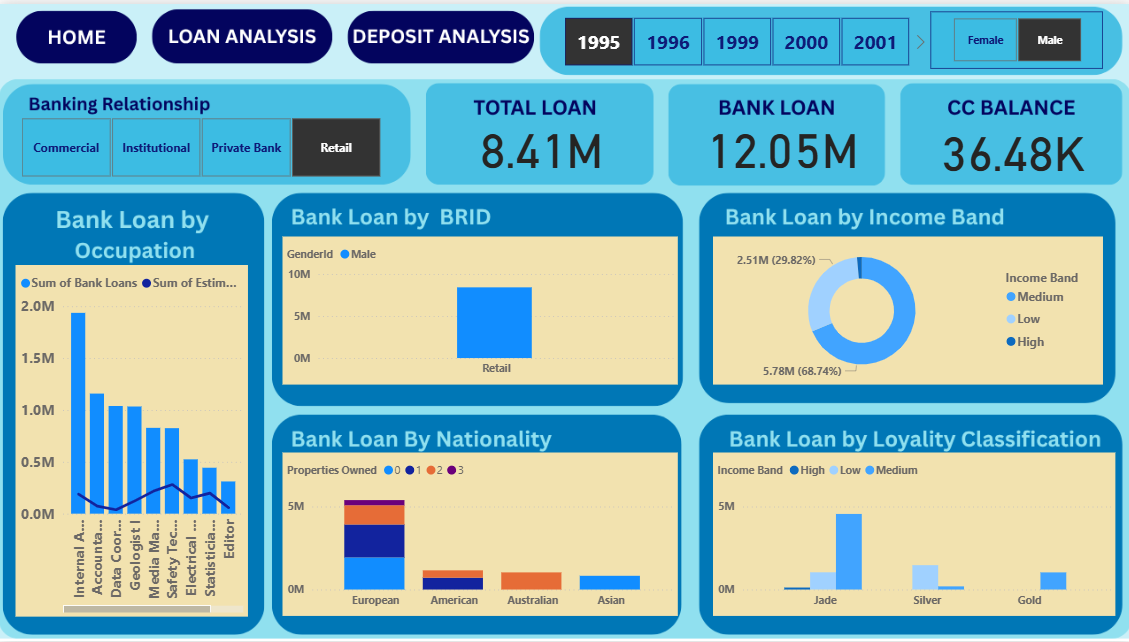

The page's visual inventory and layout, read from the dashboard file:
{"tool":"powerbi","page":{"name":"Loan Analysis","canvas":[1280,720],"ordinal":1},"visuals":[{"type":"card","fields":{"Values":["Sum(Banking.Credit Card Balance)"]},"box":[1044.1,115.3,203.4,94.9],"z":0},{"type":"card","fields":{"Values":["Sum(Banking.Bank Loans)"]},"box":[516.9,122,191.5,72.9],"z":1000},{"type":"card","fields":{"Values":["Sum(Banking.Business Lending)"]},"box":[767.8,100,233.9,116.9],"z":2000},{"type":"donutChart","fields":{"Category":["Banking.Income Band"],"Y":["Sum(Banking.Bank Loans)"]},"box":[806.4,262.5,440.6,167],"z":3000},{"type":"columnChart","fields":{"Category":["Banking.Nationality"],"Y":["Sum(Banking.Bank Loans)"],"Series":["Banking.Properties Owned"]},"box":[319.7,507.4,447,184.5],"z":4000},{"type":"clusteredColumnChart","fields":{"Y":["Sum(Banking.Bank Loans)"],"Category":["Banking.Loyalty Classification"],"Series":["Banking.Income Band"]},"box":[806.4,507.4,454.9,184.5],"z":5000},{"type":"lineStackedColumnComboChart","fields":{"Category":["Banking.Occupation"],"Y":["Sum(Banking.Bank Loans)"],"Y2":["Sum(Banking.Estimated Income)"]},"box":[19.1,294.3,262.5,397.7],"z":6000},{"type":"slicer","fields":{"Values":["Banking.BRId"]},"box":[0,122.5,454.9,79.5],"z":7000},{"type":"actionButton","box":[18.6,6.8,144.1,69.5],"z":8000},{"type":"slicer","fields":{"Values":["Banking.Year of Joining"]},"box":[613.6,8.5,439,67.8],"z":9000},{"type":"slicer","fields":{"Values":["Banking.GenderId"]},"box":[1052.5,8.5,194.9,64.4],"z":10000},{"type":"clusteredColumnChart","fields":{"Category":["Banking.BRId"],"Y":["Sum(Banking.Bank Loans)"],"Series":["Banking.GenderId"]},"box":[319.7,262.5,447,167],"z":11000},{"type":"actionButton","box":[388.1,8.5,223.7,64.4],"z":12000}]}

Visuals, with their boxes in screenshot pixels (x1, y1, x2, y2), scaled from the page's 1280x720 canvas onto the 1129x642 screenshot:
card - Sum(Banking.Credit Card Balance): Rect(921, 103, 1100, 187)
card - Sum(Banking.Bank Loans): Rect(456, 109, 625, 174)
card - Sum(Banking.Business Lending): Rect(677, 89, 884, 193)
donutChart - Banking.Income Band x Sum(Banking.Bank Loans): Rect(711, 234, 1100, 383)
columnChart - Banking.Nationality x Sum(Banking.Bank Loans): Rect(282, 452, 676, 617)
clusteredColumnChart - Sum(Banking.Bank Loans) x Banking.Loyalty Classification: Rect(711, 452, 1113, 617)
lineStackedColumnComboChart - Banking.Occupation x Sum(Banking.Bank Loans): Rect(17, 262, 248, 617)
slicer - Banking.BRId: Rect(0, 109, 401, 180)
actionButton: Rect(16, 6, 144, 68)
slicer - Banking.Year of Joining: Rect(541, 8, 928, 68)
slicer - Banking.GenderId: Rect(928, 8, 1100, 65)
clusteredColumnChart - Banking.BRId x Sum(Banking.Bank Loans): Rect(282, 234, 676, 383)
actionButton: Rect(342, 8, 540, 65)
